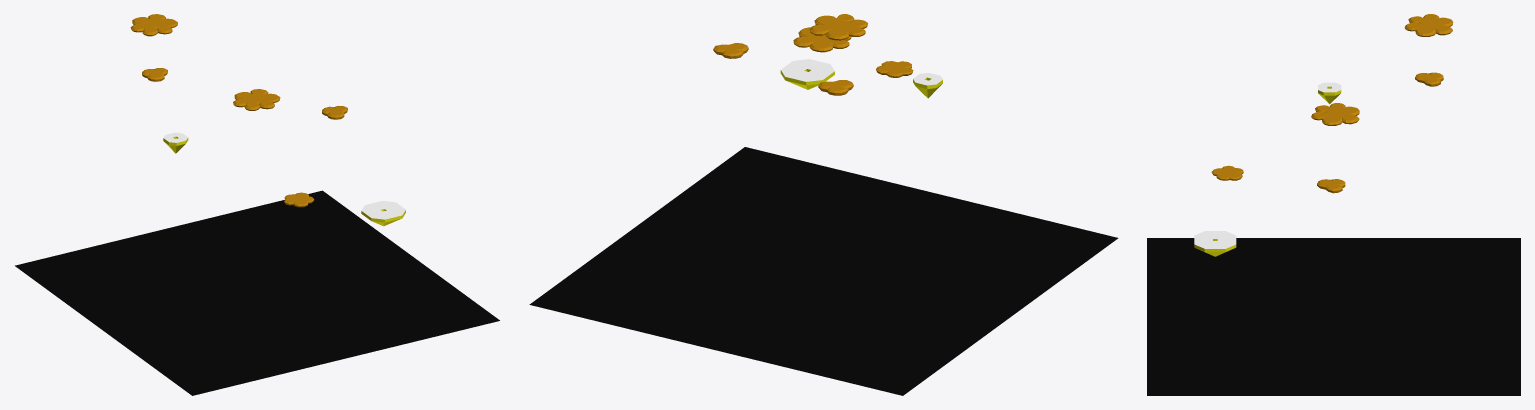
Rendered from rainbow_bonus_segment7.0x10688.collision.obj.
3 renders of one model, left to right at view 1: azimuth 30°, elevation 25°; view 2: azimuth 150°, elevation 25°; view 3: azimuth 270°, elevation 25°, orthographic. The views are drawn at different scales.
Parts seen in each view (by area): view 1: rainbow_bonus_segment7_10688_deathfloor, rainbow_bonus_segment7_10688_climbable, rainbow_bonus_segment7_10688_snowy2, rainbow_bonus_segment7_10688_normal; view 2: rainbow_bonus_segment7_10688_deathfloor, rainbow_bonus_segment7_10688_climbable, rainbow_bonus_segment7_10688_snowy2, rainbow_bonus_segment7_10688_normal; view 3: rainbow_bonus_segment7_10688_deathfloor, rainbow_bonus_segment7_10688_climbable, rainbow_bonus_segment7_10688_snowy2, rainbow_bonus_segment7_10688_normal.
Part boxes in pixels (box(x1,y1,x2,y2)): rainbow_bonus_segment7_10688_deathfloor: box(15, 190, 499, 395); rainbow_bonus_segment7_10688_climbable: box(130, 14, 347, 207); rainbow_bonus_segment7_10688_snowy2: box(163, 132, 405, 219); rainbow_bonus_segment7_10688_normal: box(163, 136, 405, 226); rainbow_bonus_segment7_10688_deathfloor: box(529, 147, 1118, 395); rainbow_bonus_segment7_10688_climbable: box(713, 14, 913, 95); rainbow_bonus_segment7_10688_snowy2: box(781, 59, 942, 85); rainbow_bonus_segment7_10688_normal: box(780, 69, 942, 98); rainbow_bonus_segment7_10688_deathfloor: box(1147, 238, 1520, 395); rainbow_bonus_segment7_10688_climbable: box(1211, 14, 1453, 193); rainbow_bonus_segment7_10688_snowy2: box(1194, 82, 1341, 248); rainbow_bonus_segment7_10688_normal: box(1194, 86, 1341, 256).
Bounding box in the file's own units: 16 × 12.43 × 16.
